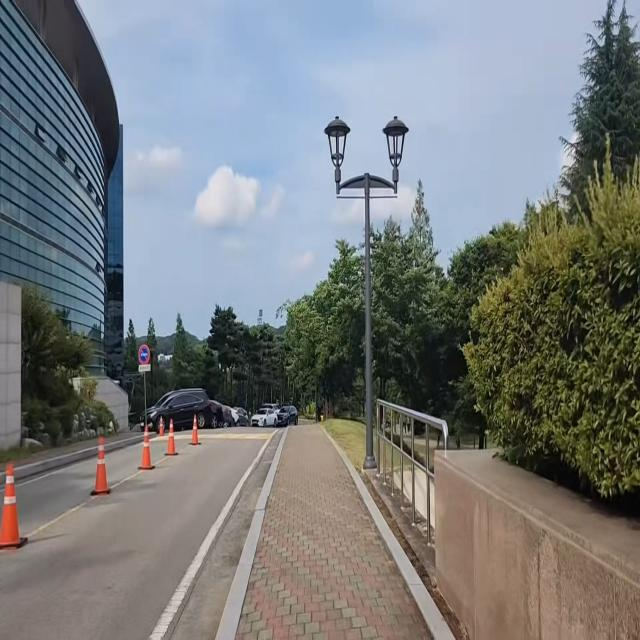obstacle: (323, 111, 414, 477), (0, 446, 34, 559), (85, 428, 116, 507)
road: (0, 431, 283, 640)
sidewalk: (218, 424, 461, 640), (2, 431, 141, 473)
